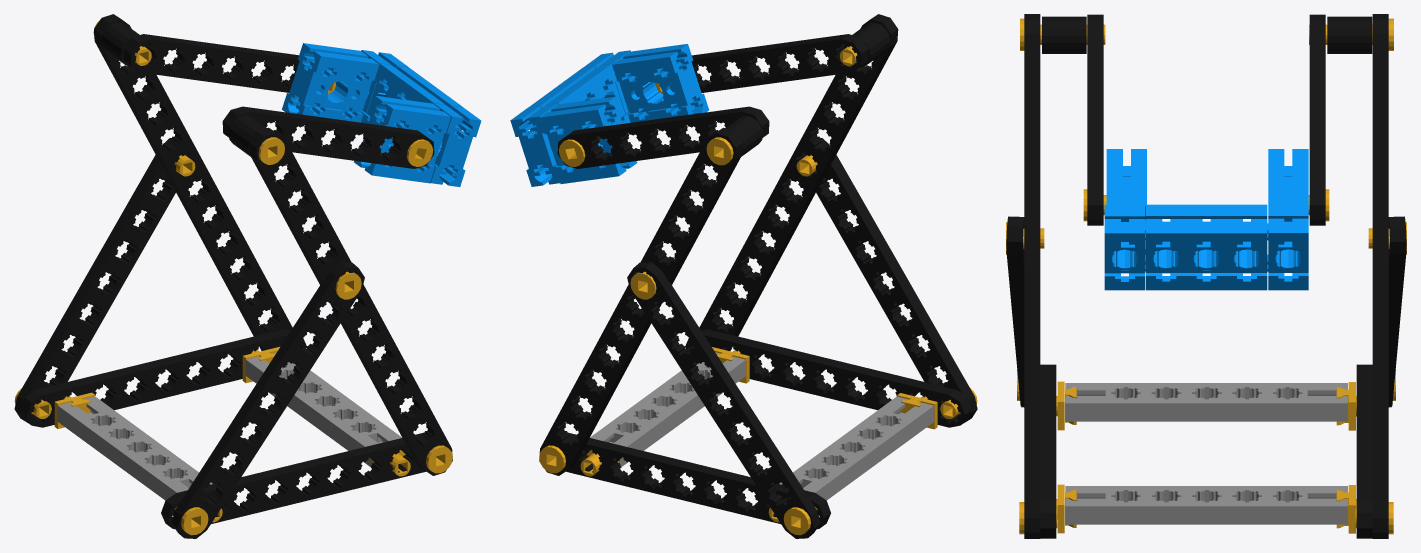
File: 1.1move.gltf
3 renders of one model, left to right at view 1: azimuth 30°, elevation 25°; view 2: azimuth 150°, elevation 25°; view 3: azimuth 270°, elevation 25°, orthographic. The views are drawn at different scales.
Parts seen in each view (by area): view 1: CubeBlue-30mm.035, CubeBlue-30mm.032, CubeBlue-30mm.002, CubeBlue-30mm.034, CubeBlue-30mm.029, CubeBlue-30mm.028, CubeBlue-30mm.033, CubeBlue-30mm.003, CubeBlue-30mm.005, CubeBlue-30mm.030, CubeBlue-30mm.031, cross-3mmx5mm.001 (+10 smaller); view 2: CubeBlue-30mm.032, CubeBlue-30mm.035, CubeBlue-30mm.002, CubeBlue-30mm.029, CubeBlue-30mm.034, CubeBlue-30mm.033, CubeBlue-30mm.028, CubeBlue-30mm.005, CubeBlue-30mm.003, CubeBlue-30mm.031, CubeBlue-30mm.030, cross-3mmx5mm.007 (+10 smaller); view 3: CubeBlue-30mm.002, CubeBlue-30mm.001, CubeBlue-30mm.032, CubeBlue-30mm.035, cross-3mmx5mm.001, cross-3mmx5mm.007, CubeBlue-30mm.005, CubeBlue-30mm.003, CubeBlue-30mm.028, CubeBlue-30mm.033, CubeBlue-30mm.029, CubeBlue-30mm.034 (+7 smaller).
Boxes of the visible parts, x1,y1,x2,y2 form: CubeBlue-30mm.035: [249, 127, 452, 475]; CubeBlue-30mm.032: [94, 14, 292, 350]; CubeBlue-30mm.002: [57, 352, 402, 500]; CubeBlue-30mm.034: [171, 262, 364, 538]; CubeBlue-30mm.029: [14, 138, 187, 422]; CubeBlue-30mm.028: [20, 329, 306, 427]; CubeBlue-30mm.033: [161, 432, 425, 529]; CubeBlue-30mm.003: [123, 34, 309, 92]; CubeBlue-30mm.005: [222, 106, 434, 168]; CubeBlue-30mm.030: [282, 43, 379, 122]; CubeBlue-30mm.031: [354, 95, 450, 183]; cross-3mmx5mm.001: [426, 103, 481, 186]; CubeBlue-30mm.032: [539, 127, 742, 475]; CubeBlue-30mm.035: [699, 14, 898, 350]; CubeBlue-30mm.002: [590, 352, 934, 500]; CubeBlue-30mm.029: [627, 262, 820, 538]; CubeBlue-30mm.034: [804, 138, 977, 422]; CubeBlue-30mm.033: [685, 329, 971, 427]; CubeBlue-30mm.028: [566, 432, 830, 529]; CubeBlue-30mm.005: [691, 34, 868, 92]; CubeBlue-30mm.003: [557, 106, 769, 168]; CubeBlue-30mm.031: [612, 44, 708, 122]; CubeBlue-30mm.030: [540, 96, 637, 183]; cross-3mmx5mm.007: [510, 103, 564, 186]; CubeBlue-30mm.002: [1065, 383, 1347, 524]; CubeBlue-30mm.001: [1146, 204, 1267, 290]; CubeBlue-30mm.032: [1372, 14, 1388, 538]; CubeBlue-30mm.035: [1024, 14, 1040, 538]; cross-3mmx5mm.001: [1104, 193, 1170, 290]; cross-3mmx5mm.007: [1243, 193, 1308, 290]; CubeBlue-30mm.005: [1087, 14, 1103, 225]; CubeBlue-30mm.003: [1309, 14, 1325, 225]; CubeBlue-30mm.028: [1356, 364, 1372, 538]; CubeBlue-30mm.033: [1040, 364, 1056, 538]; CubeBlue-30mm.029: [1388, 216, 1406, 407]; CubeBlue-30mm.034: [1006, 216, 1024, 407].
Bounding box in the file's own units: 0.1097 × 0.1181 × 0.0993.
